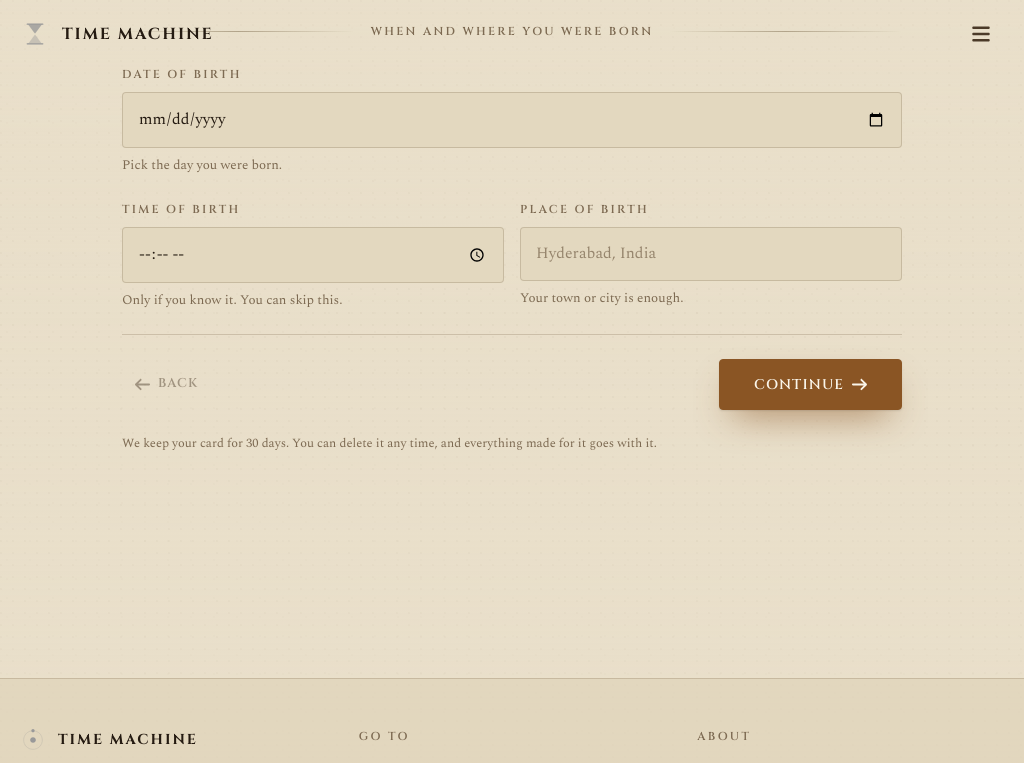
Test case: Past wizard › will not leave the first step until a star sign is chosen, then does
This screenshot has width=1024, height=763.
(page scrolled)
Click the button "Continue" at x=810, y=385, box top-left (719, 359), bottom-right (902, 410)
(page scrolled)
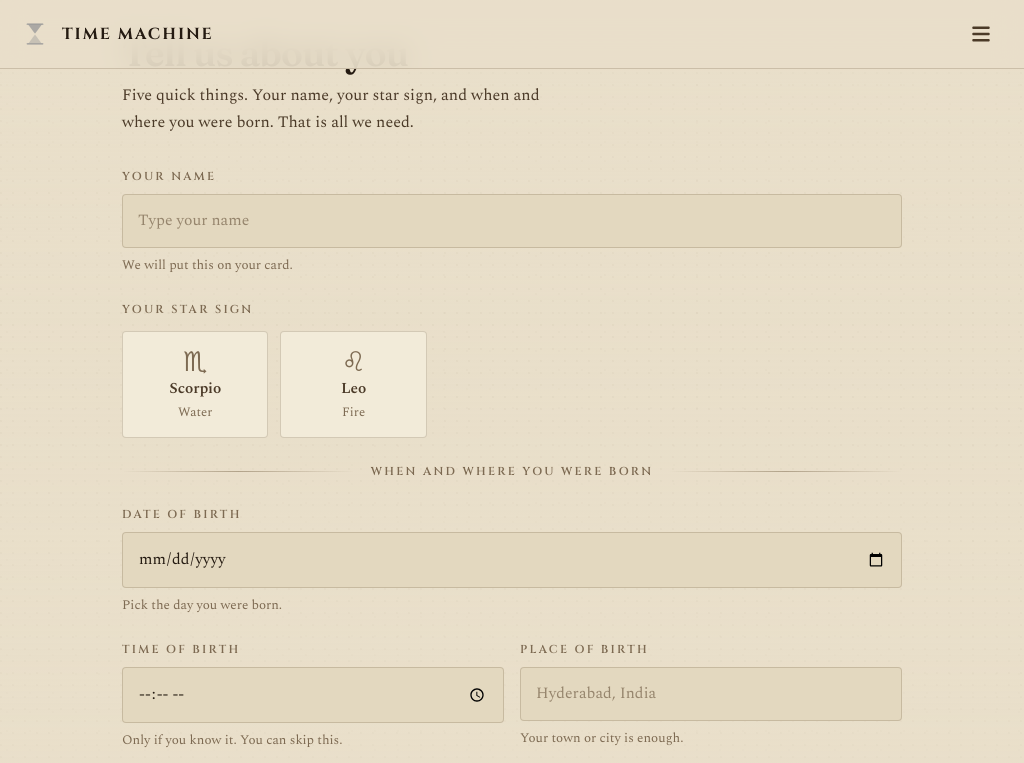
Check: the heading "Tell us about you" is shown, box top-left (122, 30), bottom-right (408, 75)
Click the radio button labelled "Scorpio Water" at x=195, y=385, box top-left (122, 331), bottom-right (268, 438)
(page scrolled)
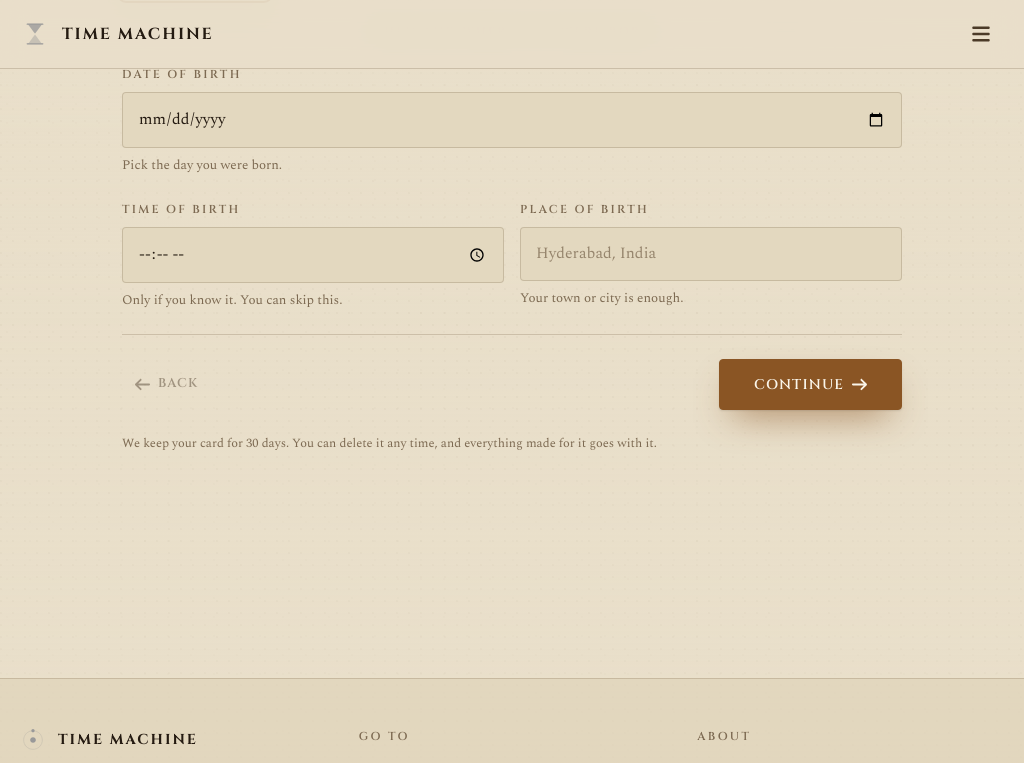
Click the button "Continue" at x=810, y=385, box top-left (719, 359), bottom-right (902, 410)
(page scrolled)
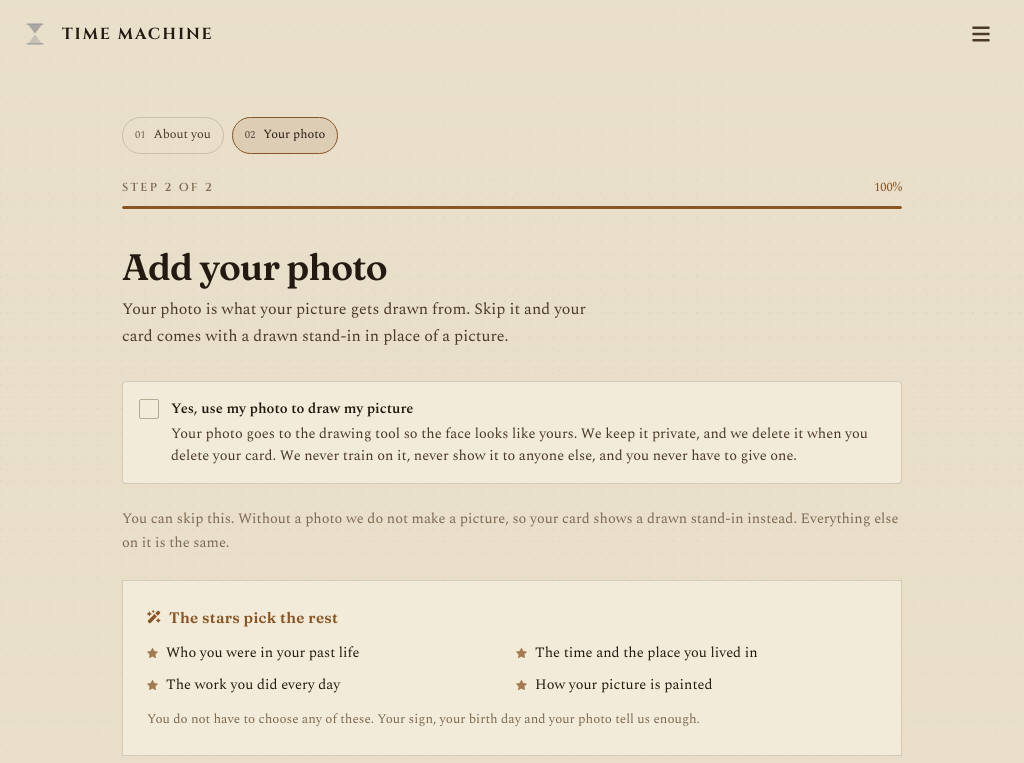
Check: the heading "Add your photo" is shown, box top-left (122, 244), bottom-right (387, 289)
